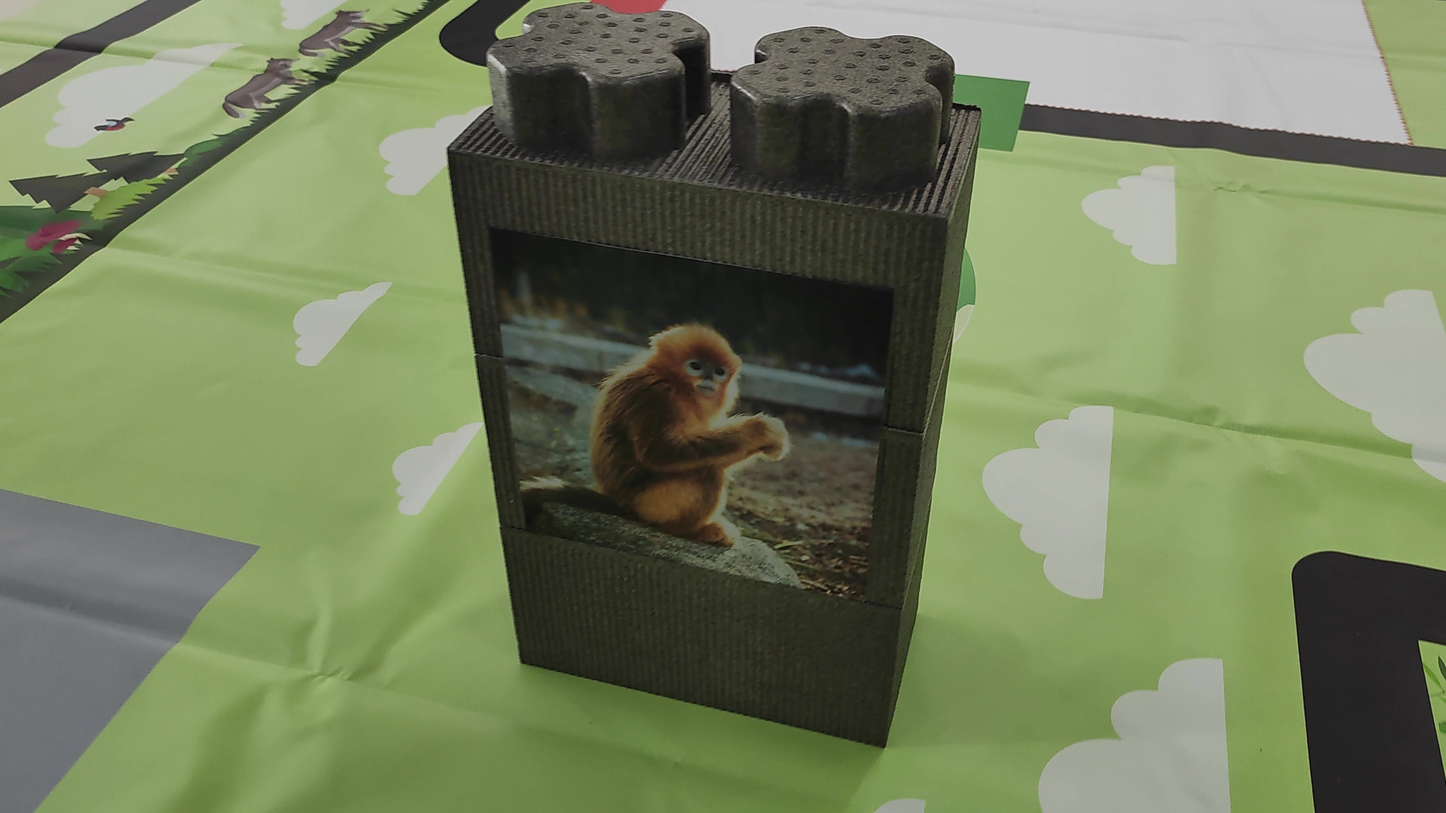monkey: (566, 282, 819, 542)
